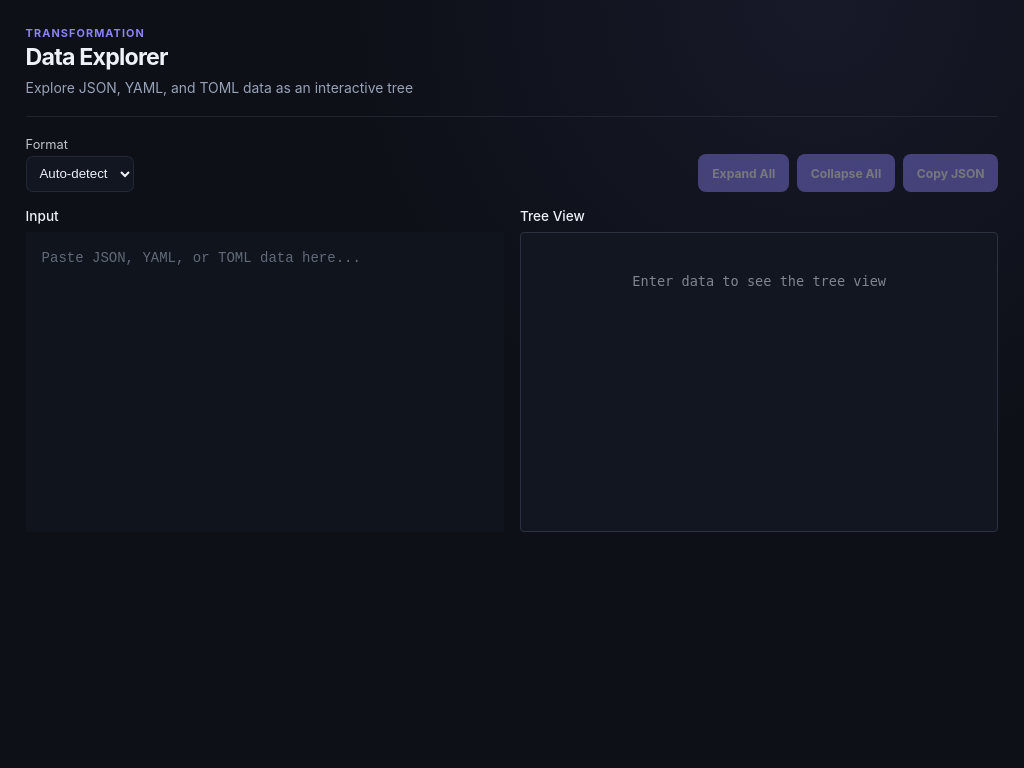
DataExplorerPage › renders valid JSON primitive 0
Step 1. Type "0" into the text box with placeholder "Paste JSON, YAML, or TOML data here..." → (265, 382), box [26,232,504,532]
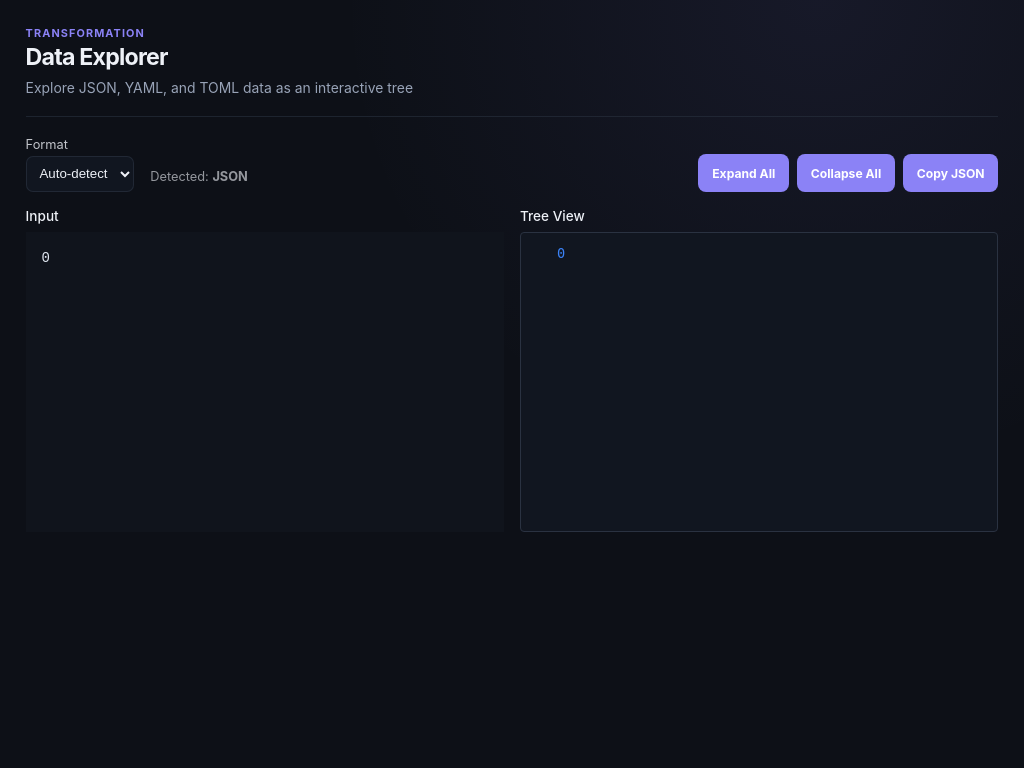
Check: the text with class "tree-value" reads "0", box [557,245,565,261]
Check: the button with class "action-button" showing "Expand All" is enabled, box [698,154,789,192]
